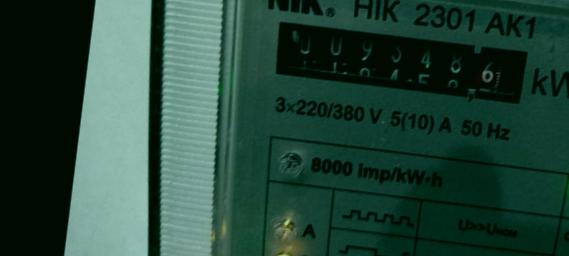0: (327, 32, 345, 57), (297, 28, 313, 56)
3: (387, 39, 405, 66)
4: (417, 42, 434, 71)
6: (478, 57, 498, 86)
8: (447, 47, 465, 77)
9: (357, 36, 375, 63)
screen: (262, 13, 538, 114)
